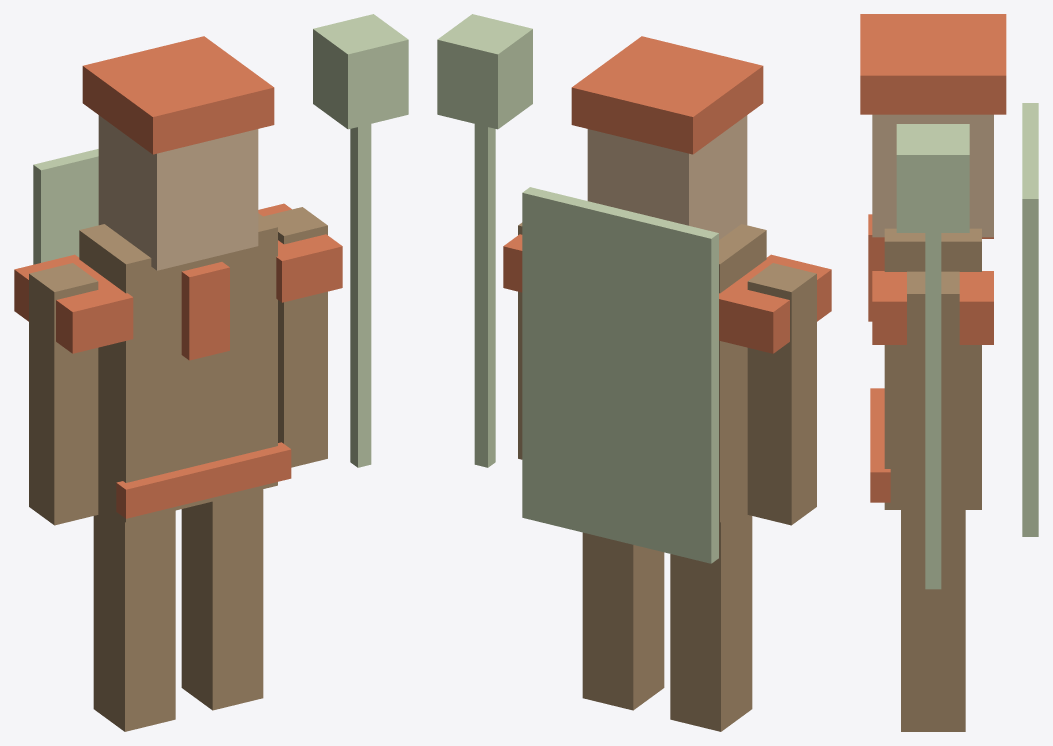
The model's file is 14_vexa_wayfare_sentinel_under_supply.glb.
The picture shows the model from 3 angles, left to right: view 1: azimuth 30°, elevation 25°; view 2: azimuth 150°, elevation 25°; view 3: azimuth 270°, elevation 25°; orthographic projection. The views are drawn at different scales.
Visible parts, largest first — view 1: Vexa Wayfare, Sentinel under Supply; view 2: Vexa Wayfare, Sentinel under Supply; view 3: Vexa Wayfare, Sentinel under Supply.
Boxes of the visible parts, <box> form: Vexa Wayfare, Sentinel under Supply: <box>14,14,408,731</box>; Vexa Wayfare, Sentinel under Supply: <box>437,14,831,731</box>; Vexa Wayfare, Sentinel under Supply: <box>860,14,1038,731</box>.
Size of the model in its own units: 0.9712 by 1.67 by 0.4129.
